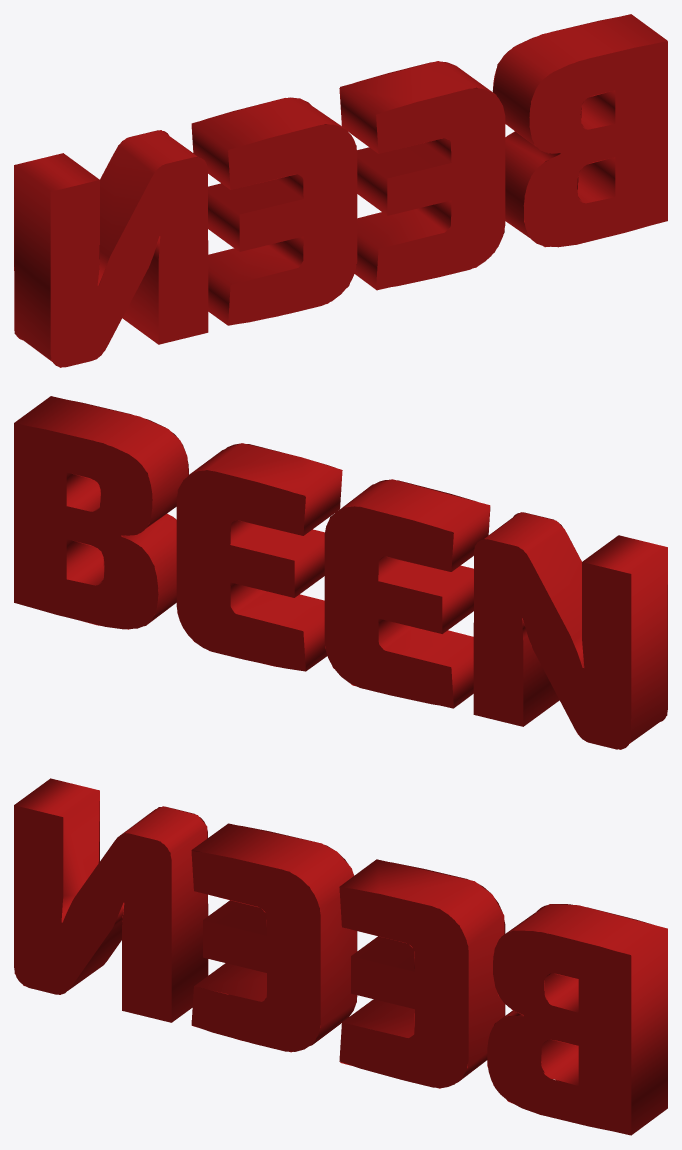
Rendered from been.fbx.
3 views of the same model, one above another, from view 1: azimuth 30°, elevation 25°; view 2: azimuth 150°, elevation 25°; view 3: azimuth 330°, elevation 25° (orthographic).
Parts seen in each view (by area): view 1: Text; view 2: Text; view 3: Text.
Boxes of the visible parts, left/top/right/bottom form: Text: left=14, top=14, right=667, bottom=367; Text: left=14, top=396, right=667, bottom=749; Text: left=14, top=778, right=667, bottom=1135.
Size of the model in its own units: 7.79 by 2.22 by 0.8.
